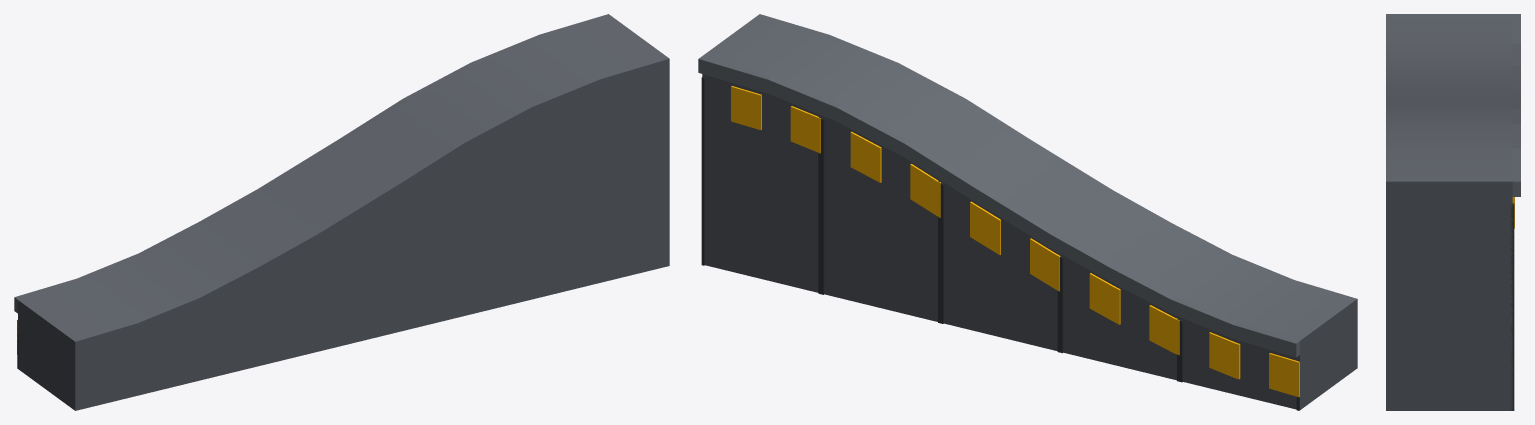
The picture shows the model from 3 angles, left to right: view 1: azimuth 30°, elevation 25°; view 2: azimuth 150°, elevation 25°; view 3: azimuth 270°, elevation 25°; orthographic projection. The views are drawn at different scales.
Parts seen in each view (by area): view 1: c1w; view 2: c1w; view 3: c1w.
Part boxes in pixels (bbox=[...]): c1w: bbox=[14, 14, 669, 410]; c1w: bbox=[698, 14, 1357, 410]; c1w: bbox=[1386, 14, 1520, 410].
Bounding box in the file's own units: 9 × 3 × 1.6.
